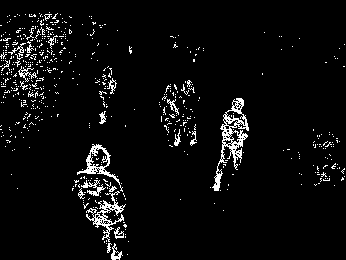person: (74, 142, 133, 260), (219, 95, 254, 193), (180, 80, 205, 148), (96, 64, 118, 126), (163, 84, 180, 147)
